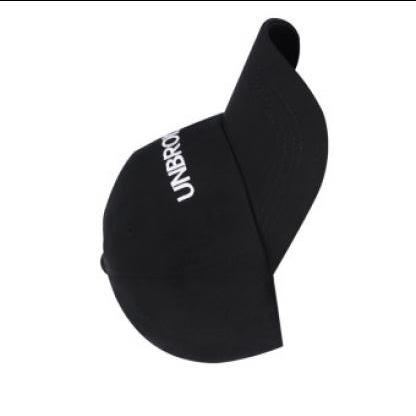cap: (90, 11, 339, 381)
